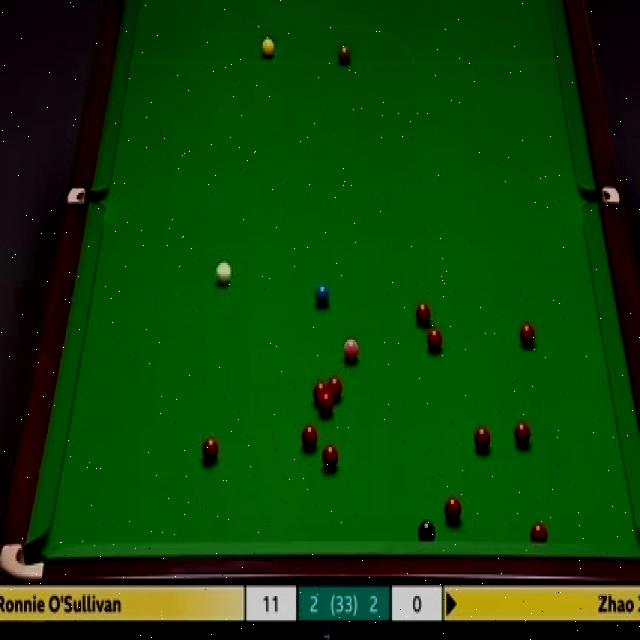black-ball: (418, 518, 436, 542)
blue-ball: (313, 282, 332, 306)
brown-ball: (338, 41, 350, 64)
pink-ball: (342, 338, 360, 366)
red-ball: (473, 426, 494, 454), (444, 497, 463, 527), (322, 440, 341, 470), (514, 420, 533, 448), (298, 426, 319, 451), (426, 325, 444, 354), (312, 381, 328, 408), (519, 322, 535, 349), (204, 436, 218, 464), (415, 301, 431, 324), (319, 395, 335, 417), (328, 377, 342, 402), (530, 522, 548, 540)
white-ball: (215, 261, 234, 287)
yellow-ball: (260, 40, 274, 58)
